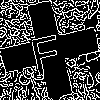F: (25, 25, 66, 77)
